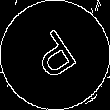P_SE: (26, 24, 84, 86)
